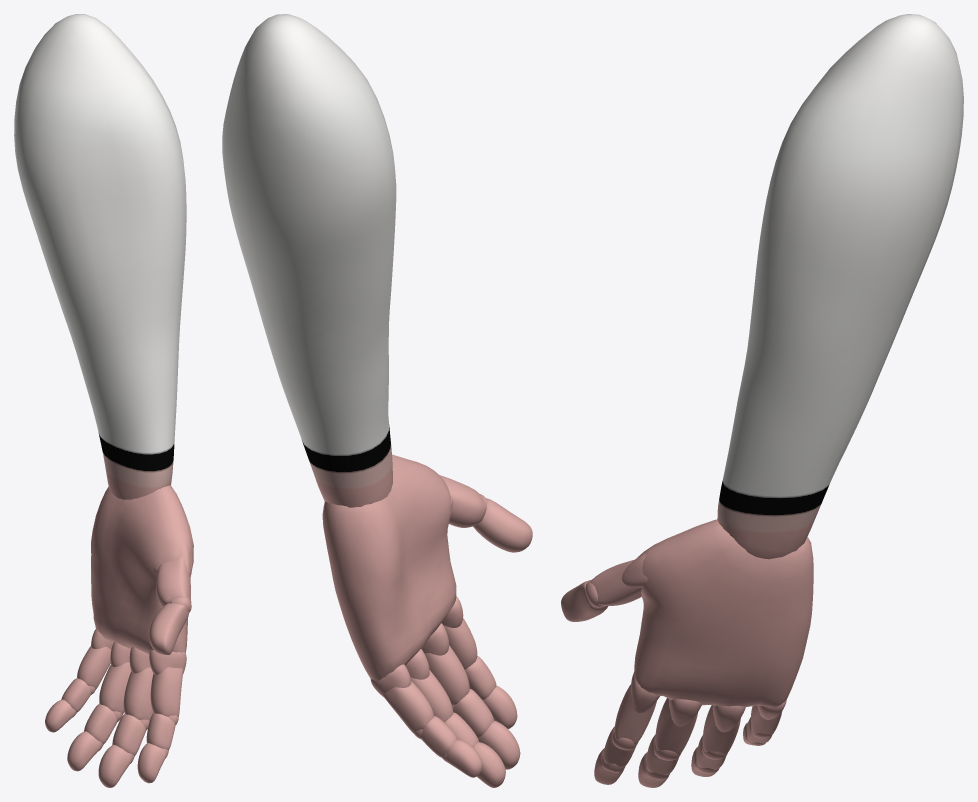
Rendered from armdownleft.fbx.
3 renders of one model, left to right at view 1: azimuth 30°, elevation 25°; view 2: azimuth 150°, elevation 25°; view 3: azimuth 270°, elevation 25°, orthographic. The views are drawn at different scales.
Parts seen in each view (by area): view 1: armdownleft; view 2: armdownleft; view 3: armdownleft.
Part boxes in pixels (bbox=[...]): armdownleft: bbox=[14, 14, 193, 787]; armdownleft: bbox=[222, 14, 532, 787]; armdownleft: bbox=[561, 14, 963, 787].
Size of the model in its own units: 7.33 by 28.82 by 12.88.
